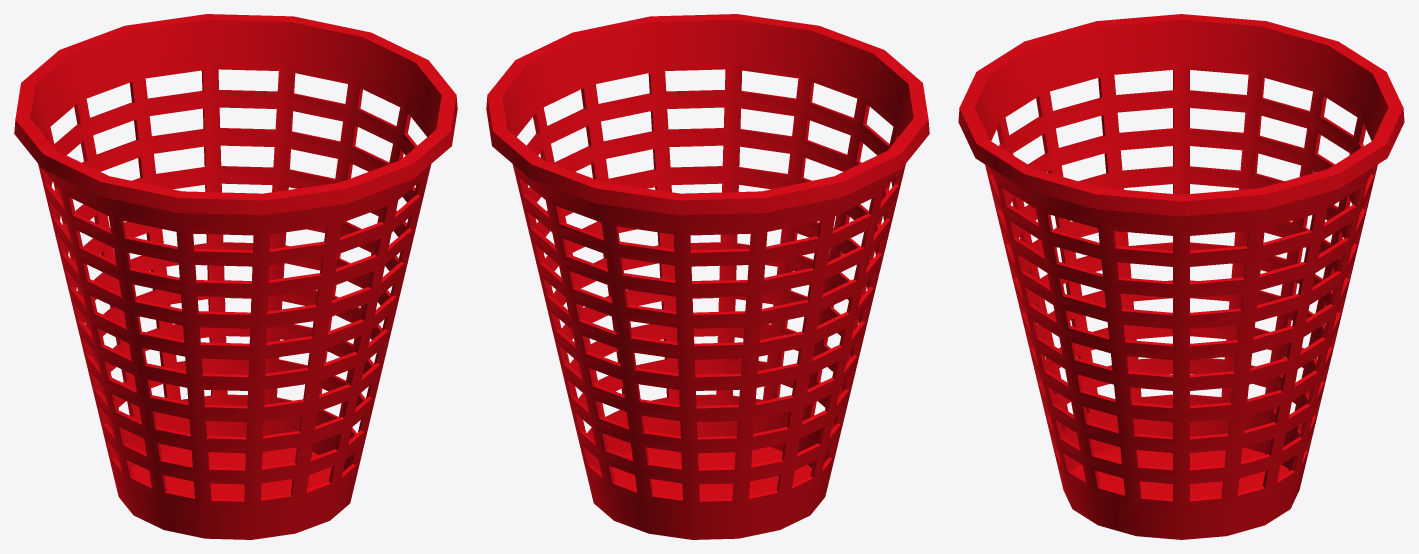
File: Basket.fbx
3 views of the same model, side by side, from view 1: azimuth 30°, elevation 25°; view 2: azimuth 150°, elevation 25°; view 3: azimuth 270°, elevation 25° (orthographic).
Parts seen in each view (by area): view 1: Cylinder; view 2: Cylinder; view 3: Cylinder.
Part boxes in pixels (left/top/right/bottom): Cylinder: left=14, top=14, right=457, bottom=539; Cylinder: left=486, top=14, right=929, bottom=539; Cylinder: left=958, top=14, right=1404, bottom=539.
Bounding box in the file's own units: 213 × 202 × 213.
